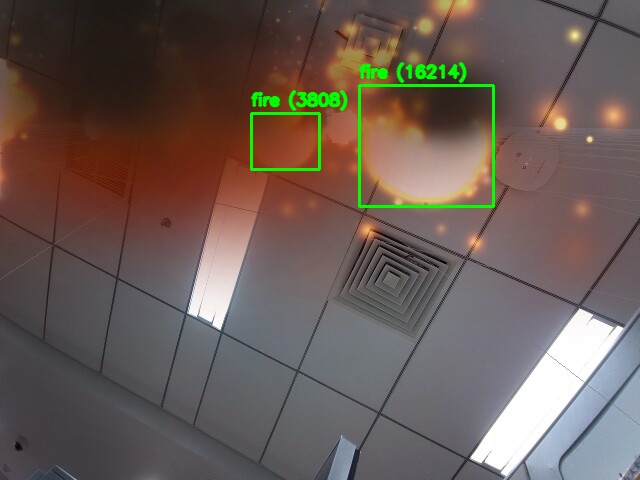fire: (359, 85, 493, 206), (251, 113, 319, 169)
